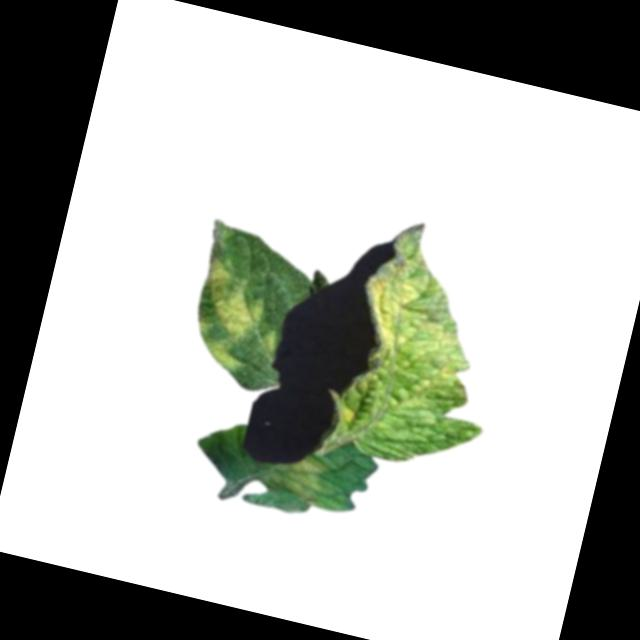Leaf_Mold: (344, 252, 487, 399), (183, 254, 272, 377), (266, 450, 327, 504)
